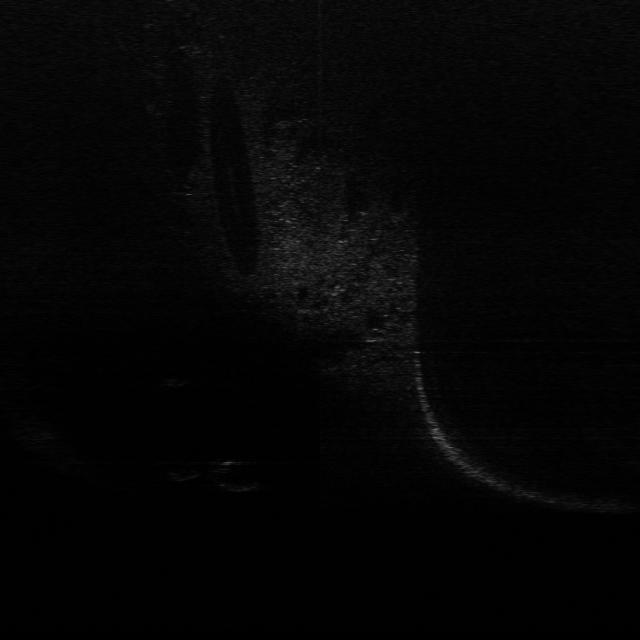cube: (167, 467, 199, 483)
square cage: (157, 375, 189, 390)
tyre: (210, 458, 266, 492)
